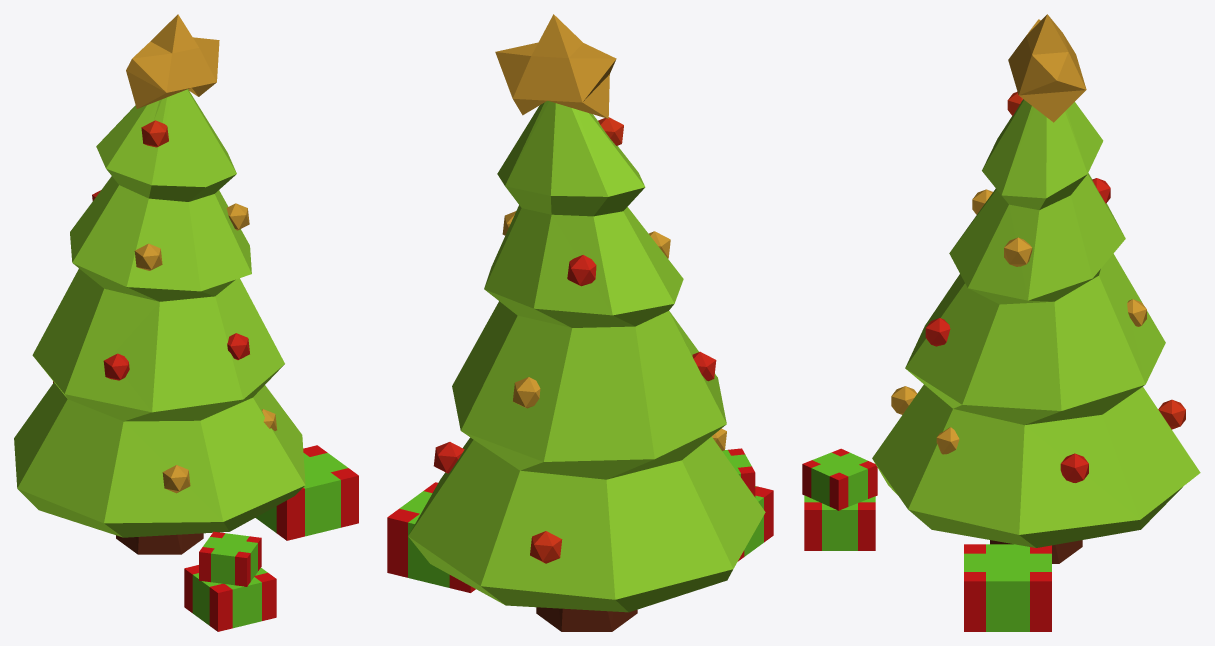
The model's file is tree.obj.
3 renders of one model, left to right at view 1: azimuth 30°, elevation 25°; view 2: azimuth 150°, elevation 25°; view 3: azimuth 270°, elevation 25°, orthographic. The views are drawn at different scales.
Visible parts, largest first — view 1: Cylinder, Cube.003_Cube.004, Cube.001_Cube.002, Cube.002_Cube.003; view 2: Cylinder, Cube.003_Cube.004, Cube.001_Cube.002, Cube.002_Cube.003; view 3: Cylinder, Cube.003_Cube.004, Cube.002_Cube.003, Cube.001_Cube.002.
Boxes of the visible parts, x1=… form: Cylinder: x1=14, y1=14, x2=305, y2=554; Cube.003_Cube.004: x1=255, y1=445, x2=358, y2=540; Cube.001_Cube.002: x1=184, y1=565, x2=276, y2=631; Cube.002_Cube.003: x1=199, y1=531, x2=261, y2=586; Cylinder: x1=408, y1=14, x2=765, y2=631; Cube.003_Cube.004: x1=387, y1=482, x2=475, y2=592; Cube.001_Cube.002: x1=738, y1=486, x2=773, y2=561; Cube.002_Cube.003: x1=722, y1=448, x2=755, y2=497; Cylinder: x1=872, y1=14, x2=1200, y2=563; Cube.003_Cube.004: x1=964, y1=544, x2=1051, y2=631; Cube.002_Cube.003: x1=802, y1=448, x2=877, y2=510; Cube.001_Cube.002: x1=804, y1=495, x2=875, y2=550.
Bounding box in the file's own units: 1.18 × 1.94 × 1.29.
